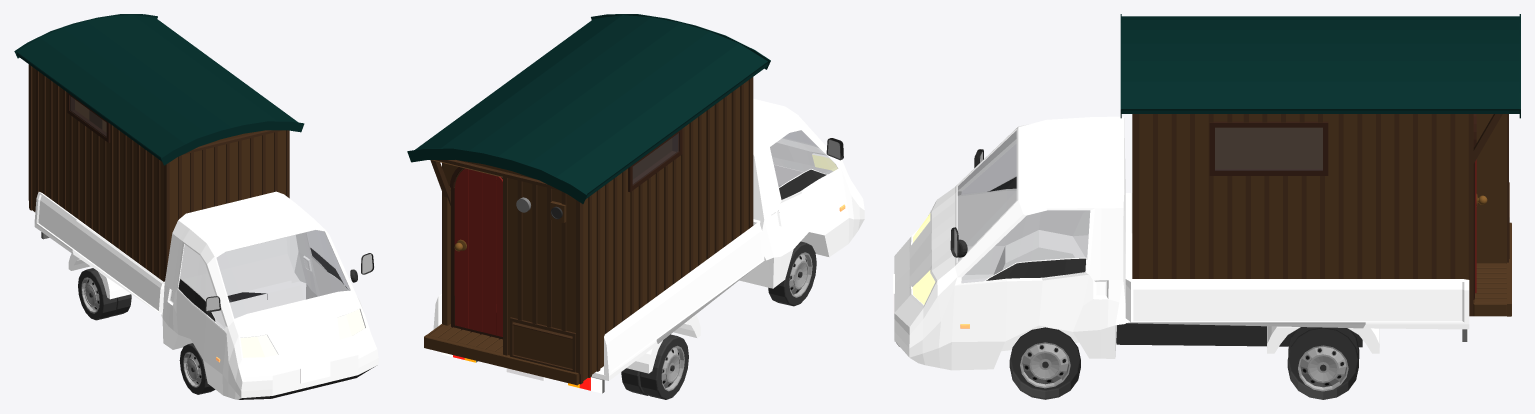
Rendered from bongo_20260712_02.glb.
3 views of the same model, side by side, from view 1: azimuth 30°, elevation 25°; view 2: azimuth 150°, elevation 25°; view 3: azimuth 270°, elevation 25° (orthographic). The views are drawn at different scales.
Parts seen in each view (by area): view 1: bongo_body, roof, wall_right, oshibuchi_right, wall_front, 平面.004, tire_rr_outside, 平面.003, tire_fr, wheel_rr, wheel_fr, number_f (+3 smaller); view 2: roof, bongo_body, wall_right, oshibuchi_right, wall_rear, door, oshibuchi_rear, 立方体.006, tire_rr_outside, 平面.003, floor, tire_fr (+9 smaller); view 3: bongo_body, roof, wall_left, oshibuchi_left, window_left, wall_right, wall_door_side, tire_rl_outside, tire_fl, wheel_fl, wheel_rl, roof_connect_left (+3 smaller).
Boxes of the visible parts, bbox=[...] form: bongo_body: bbox=[34, 191, 378, 399]; roof: bbox=[14, 14, 304, 165]; wall_right: bbox=[32, 67, 170, 281]; oshibuchi_right: bbox=[29, 65, 165, 281]; wall_front: bbox=[170, 130, 284, 244]; 平面.004: bbox=[166, 130, 289, 273]; tire_rr_outside: bbox=[78, 268, 117, 320]; 平面.003: bbox=[68, 93, 107, 140]; tire_fr: bbox=[179, 343, 215, 394]; wheel_rr: bbox=[81, 277, 99, 313]; wheel_fr: bbox=[183, 352, 201, 387]; number_f: bbox=[300, 361, 330, 383]; roof: bbox=[407, 14, 770, 203]; bongo_body: bbox=[433, 98, 864, 380]; wall_right: bbox=[575, 80, 748, 370]; oshibuchi_right: bbox=[579, 78, 752, 384]; wall_rear: bbox=[508, 178, 575, 368]; door: bbox=[454, 168, 502, 336]; oshibuchi_rear: bbox=[503, 177, 580, 374]; 立方体.006: bbox=[424, 335, 579, 385]; tire_rr_outside: bbox=[639, 334, 688, 399]; 平面.003: bbox=[631, 130, 681, 189]; floor: bbox=[429, 324, 603, 380]; tire_fr: bbox=[768, 241, 816, 306]; bongo_body: bbox=[894, 116, 1469, 370]; roof: bbox=[1120, 14, 1520, 118]; wall_left: bbox=[1139, 114, 1468, 279]; oshibuchi_left: bbox=[1134, 114, 1473, 316]; window_left: bbox=[1212, 125, 1325, 173]; wall_right: bbox=[1215, 127, 1322, 168]; wall_door_side: bbox=[1476, 114, 1501, 263]; tire_rl_outside: bbox=[1287, 327, 1358, 399]; tire_fl: bbox=[1009, 327, 1080, 399]; wheel_fl: bbox=[1020, 342, 1070, 388]; wheel_rl: bbox=[1298, 345, 1348, 391]; roof_connect_left: bbox=[1121, 110, 1519, 113].
Bounding box in the file's own units: 1.99 × 2.75 × 5.
Materials: 21 (1 with a texture image).
